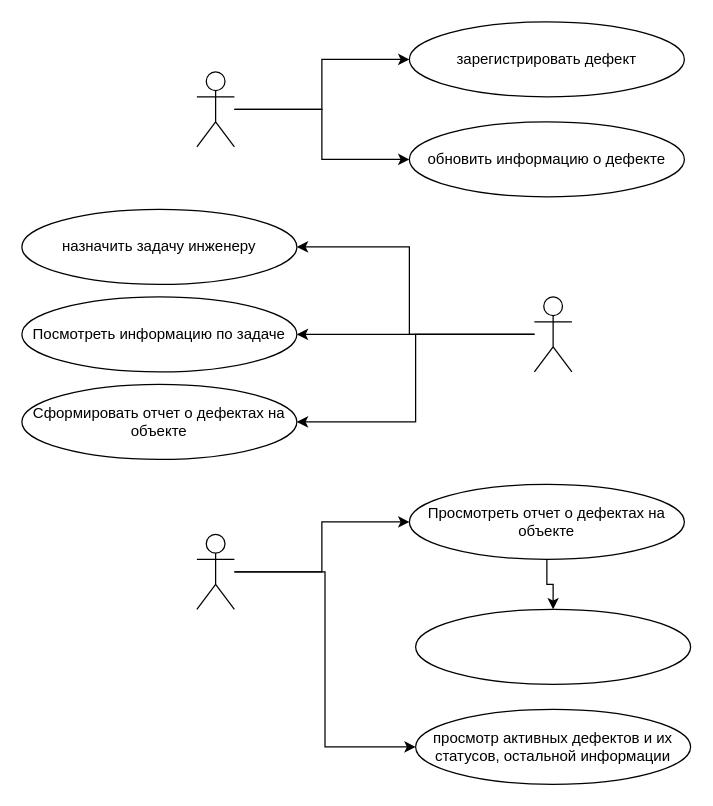
The diagram is 713 pixels wide and 806 high, and some of its shapes have lost their labels. The shapes that lost their labels are listed below. From the top down, each one's centre as x and y in pixels, then its label:
(215,109): Инженер
(552,334): менеджер
(215,571): руководитель
(552,646): скачать отчет
